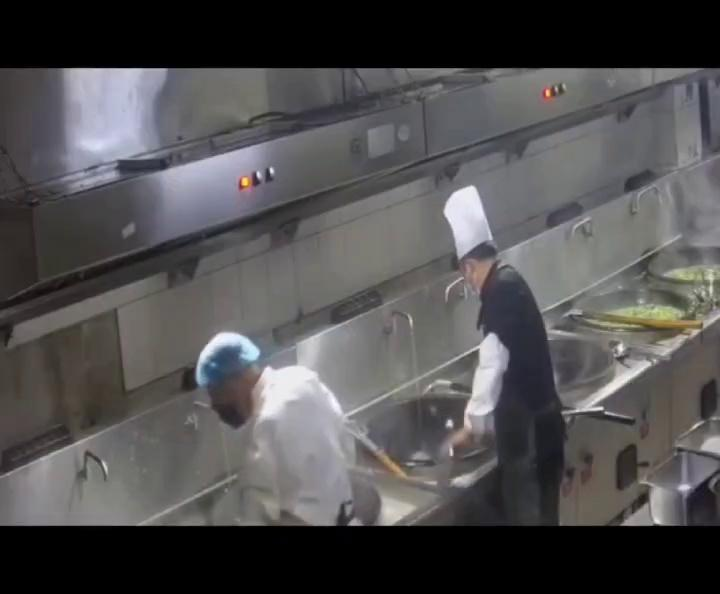gloves: (191, 334, 263, 384)
